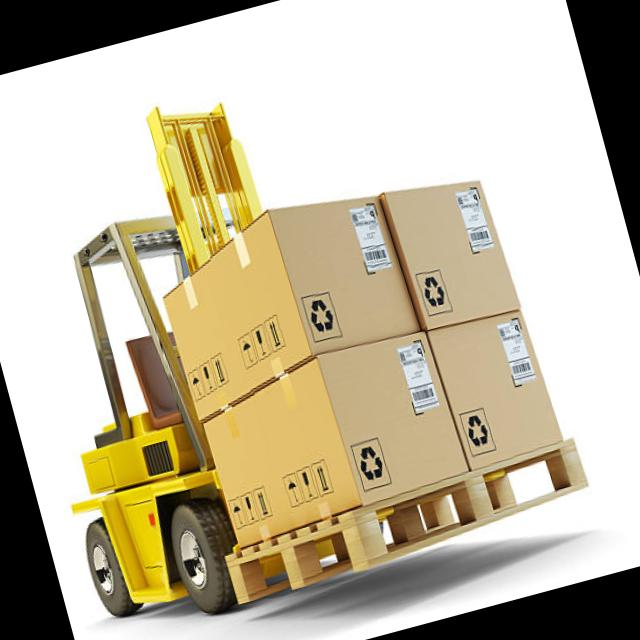Wooden-Pallets: (226, 441, 583, 611)
